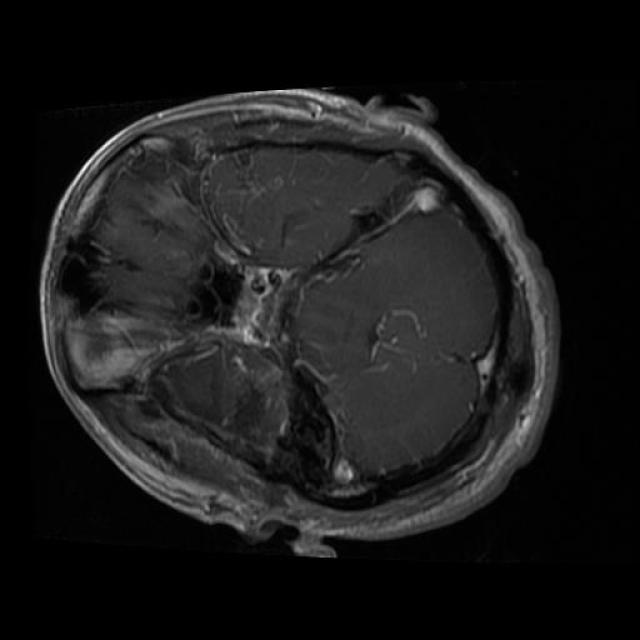Glioma: (132, 329, 304, 480)
